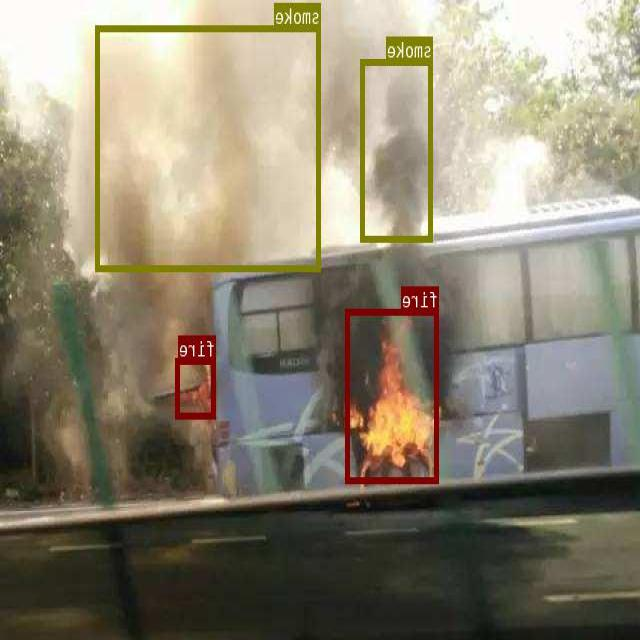fire: (346, 309, 439, 482), (176, 357, 216, 417)
smoke: (96, 24, 322, 270), (362, 58, 434, 240)
